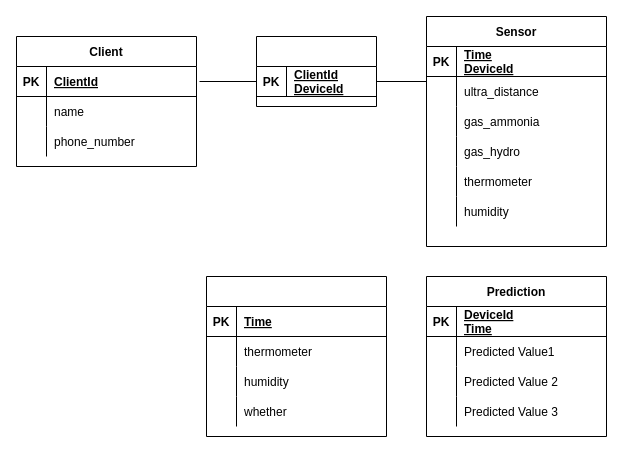
The diagram is 623 pixels wide and 453 high, and some of its shapes have lost their labels. Here are the shapes that lost their labels. From the top down, the box of each, then its label:
(256, 36, 376, 106): Ownership
(206, 276, 386, 436): CrawlData
